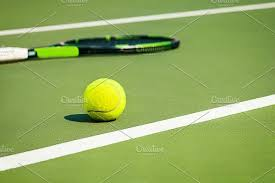tennis_ball: (81, 77, 126, 122)
